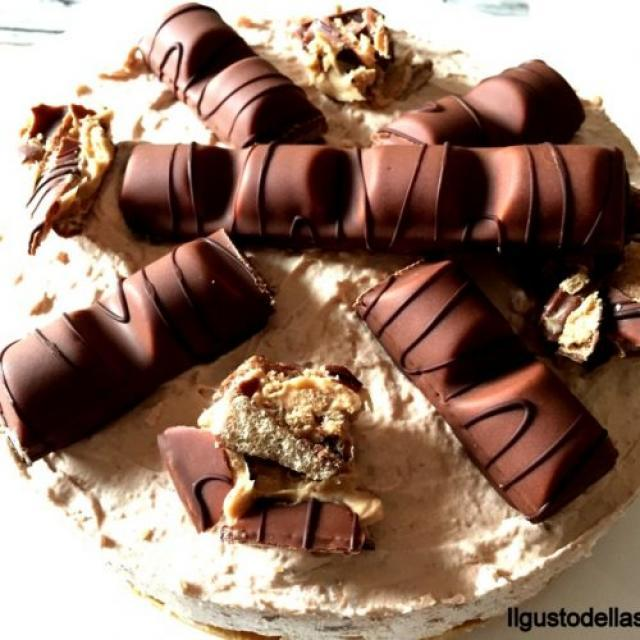Chocolate bar packaged: (351, 255, 620, 523), (121, 138, 640, 259), (4, 230, 274, 456), (132, 7, 333, 153), (375, 58, 590, 152)
